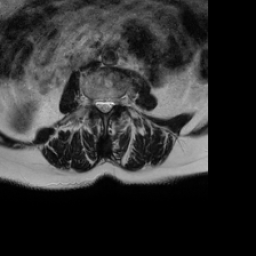CCS_stenosis: (101, 93, 106, 118)
LFS_normal: (114, 91, 120, 111)
LLS_normal: (106, 95, 113, 114)
RFS_normal: (87, 91, 94, 111)
RLS_normal: (94, 95, 101, 114)
